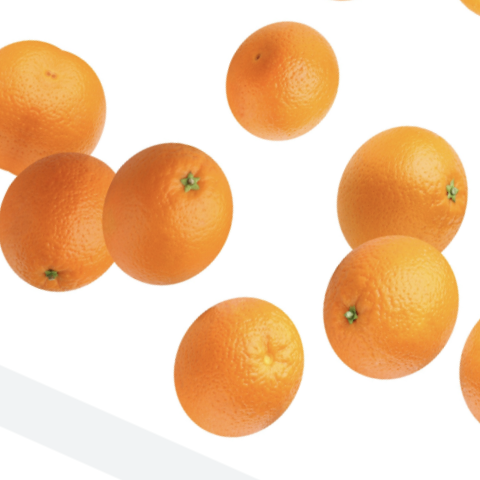orange: (130, 262, 331, 470), (292, 203, 480, 412), (73, 111, 262, 311), (0, 118, 161, 335), (310, 95, 480, 298), (202, 0, 368, 163), (7, 40, 144, 208)
